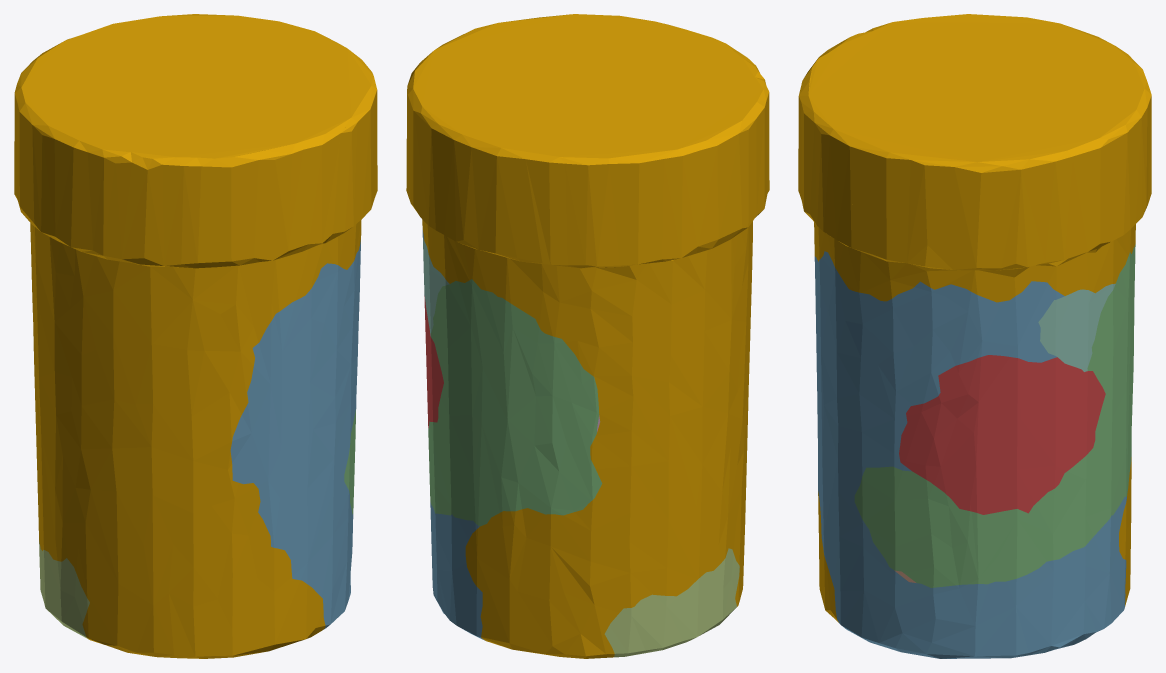
Rendered from mode_18_8pcs.glb.
The picture shows the model from 3 angles, left to right: view 1: azimuth 30°, elevation 25°; view 2: azimuth 150°, elevation 25°; view 3: azimuth 270°, elevation 25°; orthographic projection.
Visible parts, largest first — view 1: piece_0.obj, piece_2.obj, piece_5.obj, piece_3.obj; view 2: piece_0.obj, piece_3.obj, piece_5.obj, piece_2.obj, piece_1.obj, piece_4.obj; view 3: piece_0.obj, piece_2.obj, piece_3.obj, piece_1.obj, piece_4.obj.
Part boxes in pixels (left/top/right/bottom): piece_0.obj: left=14, top=14, right=377, bottom=658; piece_2.obj: left=230, top=240, right=360, bottom=629; piece_5.obj: left=39, top=540, right=89, bottom=639; piece_3.obj: left=344, top=410, right=355, bottom=514; piece_0.obj: left=406, top=14, right=769, bottom=658; piece_3.obj: left=428, top=279, right=602, bottom=526; piece_5.obj: left=604, top=548, right=739, bottom=657; piece_2.obj: left=422, top=230, right=484, bottom=640; piece_1.obj: left=424, top=296, right=443, bottom=427; piece_4.obj: left=422, top=237, right=449, bottom=336; piece_0.obj: left=798, top=14, right=1151, bottom=622; piece_2.obj: left=814, top=251, right=1126, bottom=658; piece_3.obj: left=854, top=244, right=1135, bottom=587; piece_1.obj: left=899, top=355, right=1105, bottom=514; piece_4.obj: left=1038, top=283, right=1115, bottom=371.
Bounding box in the file's own units: 0.6494 × 0.9998 × 0.6278.
